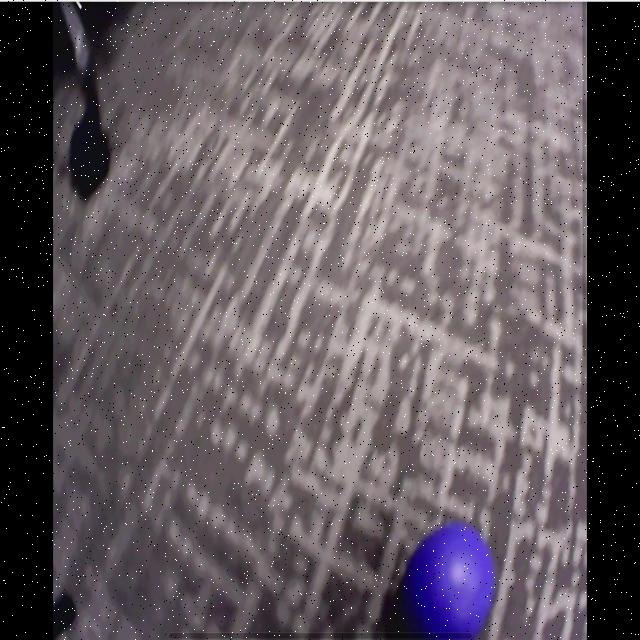ball: (409, 526, 493, 640)
